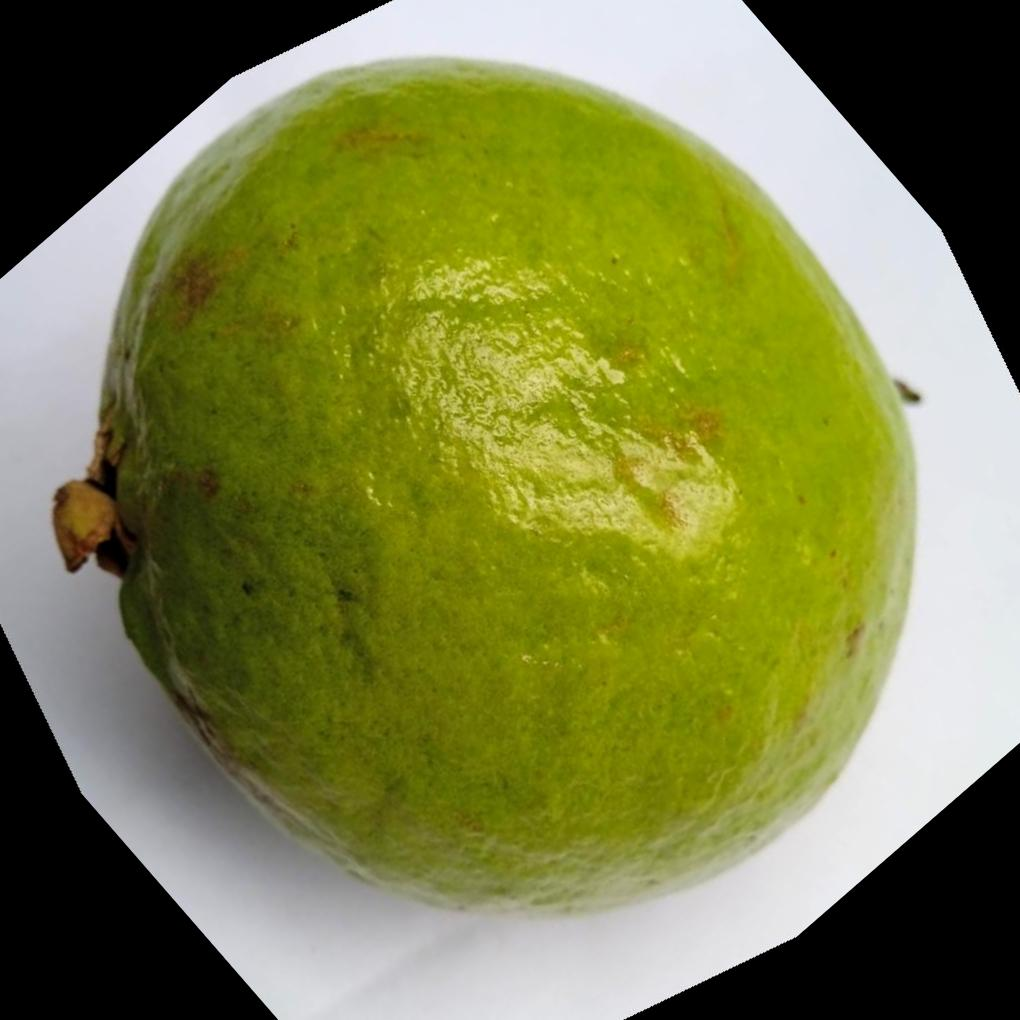FreshGuava: (51, 48, 918, 919)
